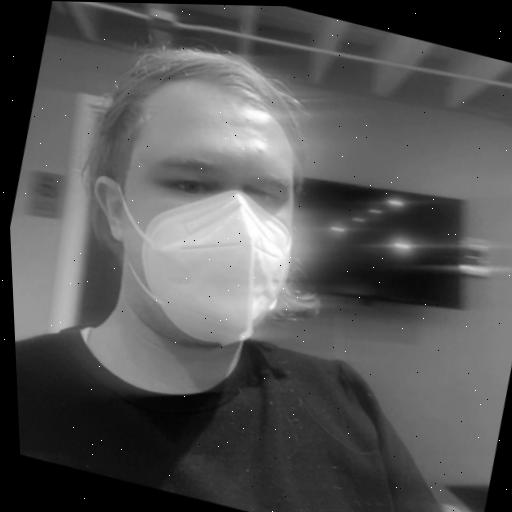mask: (34, 13, 387, 435)
